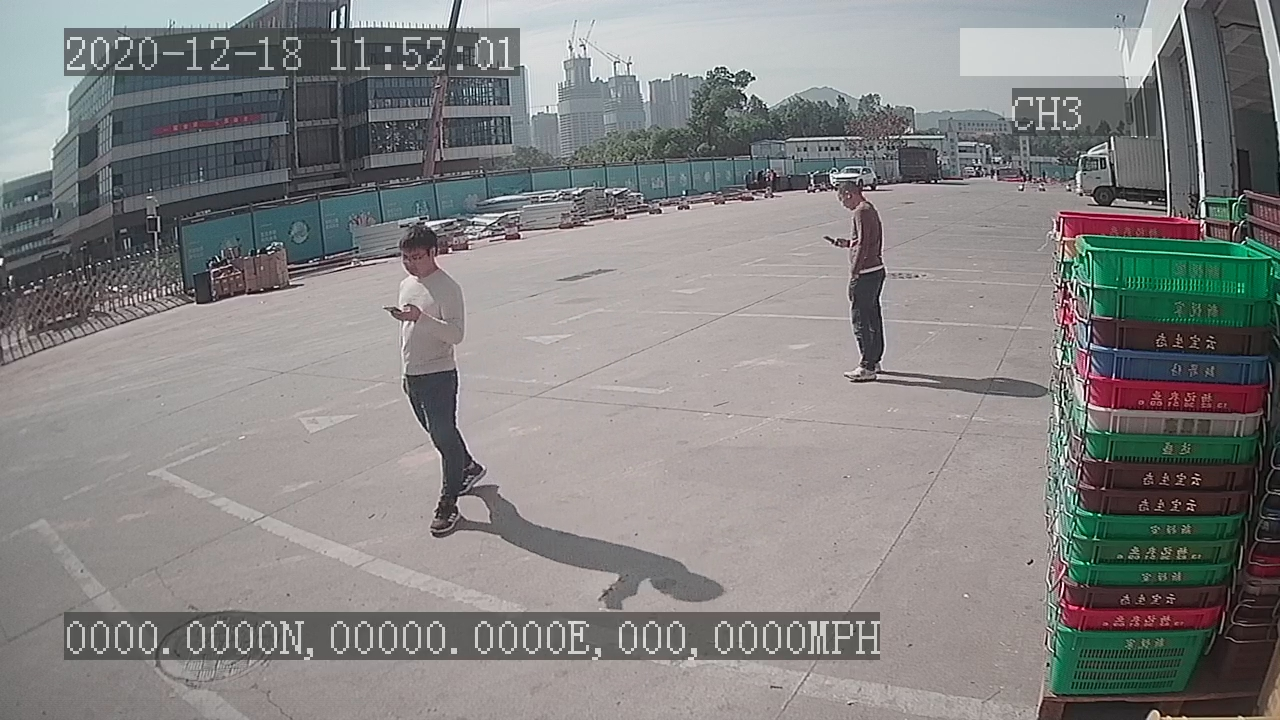person: (377, 220, 492, 547), (817, 174, 893, 386)
